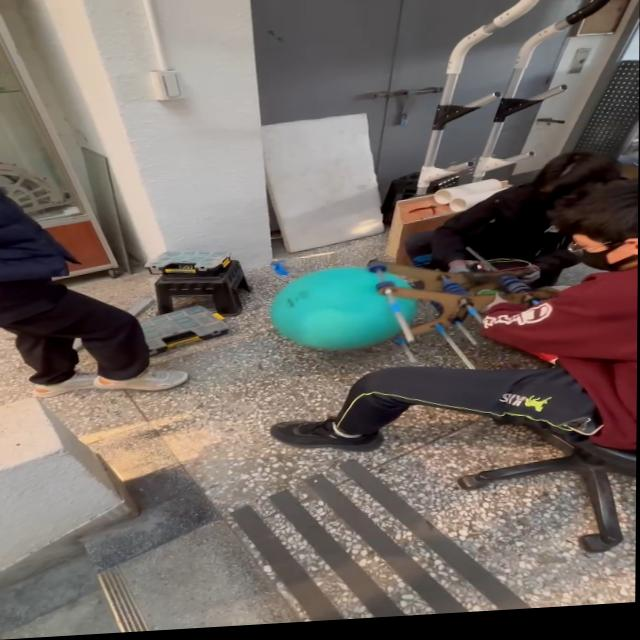ALGAE: (266, 261, 421, 356)
